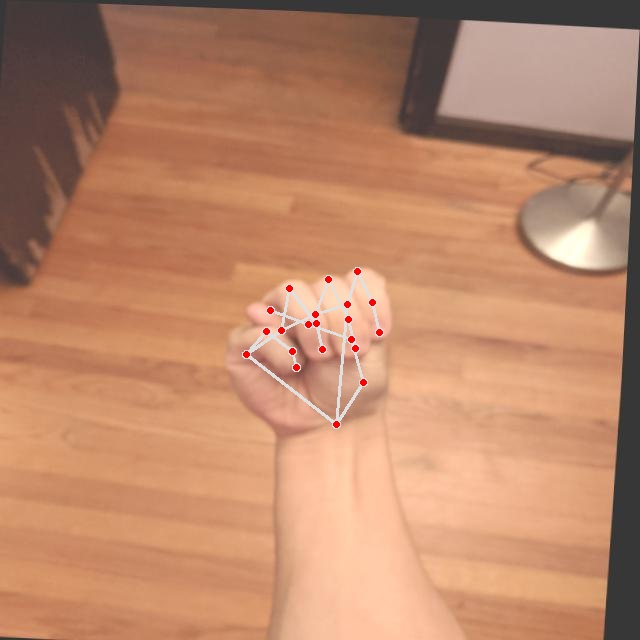M: (214, 253, 418, 441)
